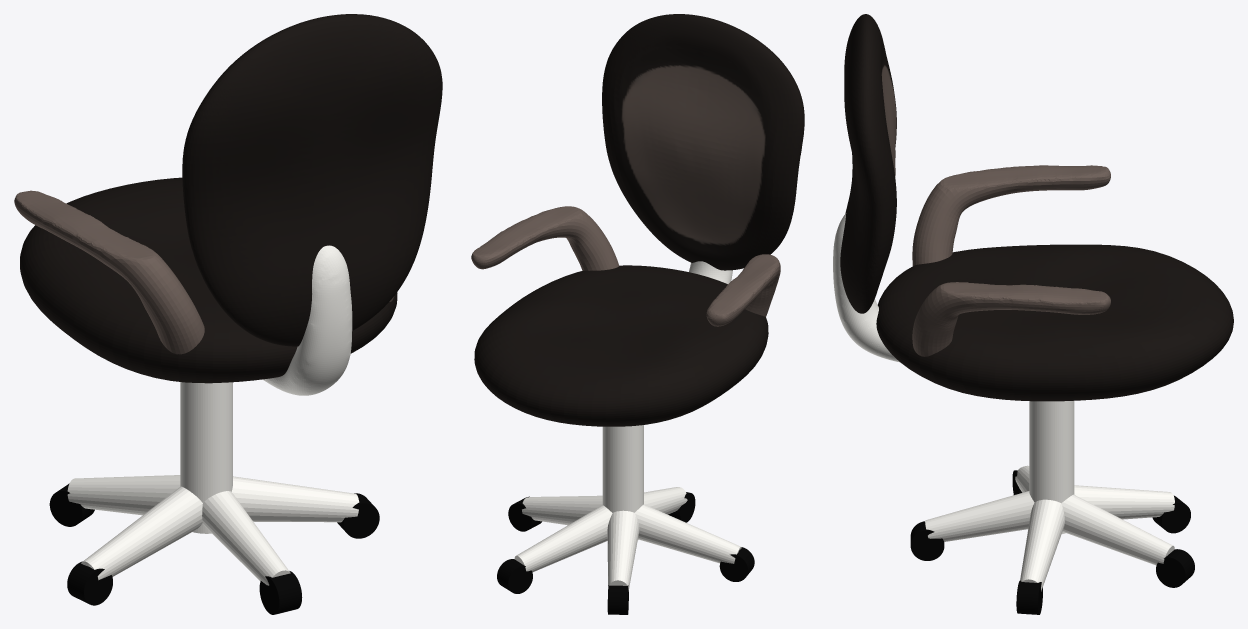
Rendered from Game chair.glb.
The picture shows the model from 3 angles, left to right: view 1: azimuth 30°, elevation 25°; view 2: azimuth 150°, elevation 25°; view 3: azimuth 270°, elevation 25°; orthographic projection. The views are drawn at different scales.
Parts seen in each view (by area): view 1: Back, Seat, Legs, Arms, Back pole, Pole, Wheels; view 2: Back, Seat, Legs, Arms, Pole, Wheels, Back pole; view 3: Seat, Arms, Back, Legs, Pole, Wheels, Back pole.
Boxes of the visible parts, <box> form: Back: <box>182,14,442,346</box>; Seat: <box>20,177,397,383</box>; Legs: <box>67,475,359,585</box>; Arms: <box>14,190,394,354</box>; Back pole: <box>262,245,352,395</box>; Pole: <box>180,382,232,533</box>; Wheels: <box>49,483,379,614</box>; Back: <box>602,14,804,270</box>; Seat: <box>474,265,768,426</box>; Legs: <box>514,487,741,591</box>; Arms: <box>471,206,780,326</box>; Pole: <box>602,425,643,539</box>; Wheels: <box>497,492,754,614</box>; Back pole: <box>689,261,732,283</box>; Seat: <box>876,244,1233,401</box>; Arms: <box>912,165,1110,356</box>; Back: <box>840,14,896,313</box>; Legs: <box>925,465,1174,591</box>; Pole: <box>1029,401,1074,533</box>; Wheels: <box>910,470,1194,614</box>; Back pole: <box>833,213,899,362</box>.
Bounding box in the file's own units: 0.5735 × 1.03 × 0.7062.
